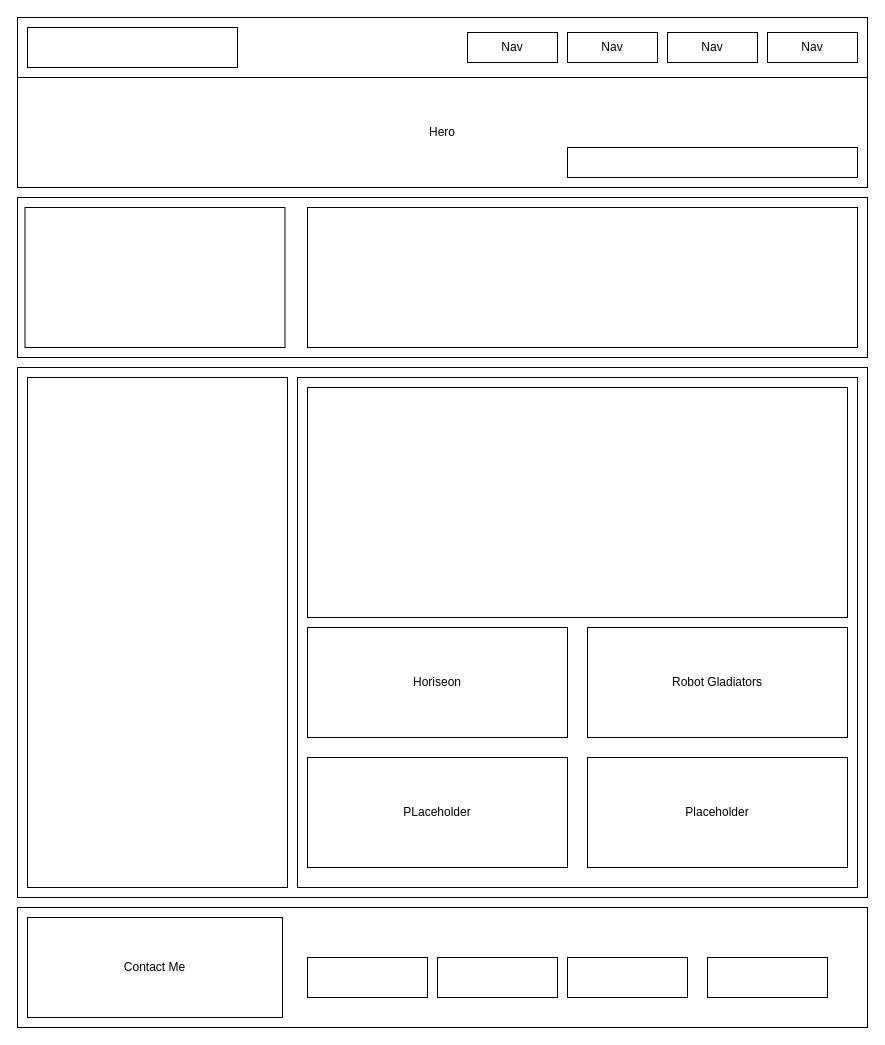
The diagram is 885 pixels wide and 1045 high, and some of its shapes have lost their labels. The shapes that lost their labels are listed below. From the top down, each one's centre as x and y in pixels, then its label:
At pixel 132 47: "Andrew Power".
At pixel 712 162: "Title".
At pixel 154 277: "About Me".
At pixel 577 502: "Run Buddy".
At pixel 157 632: "Work".
